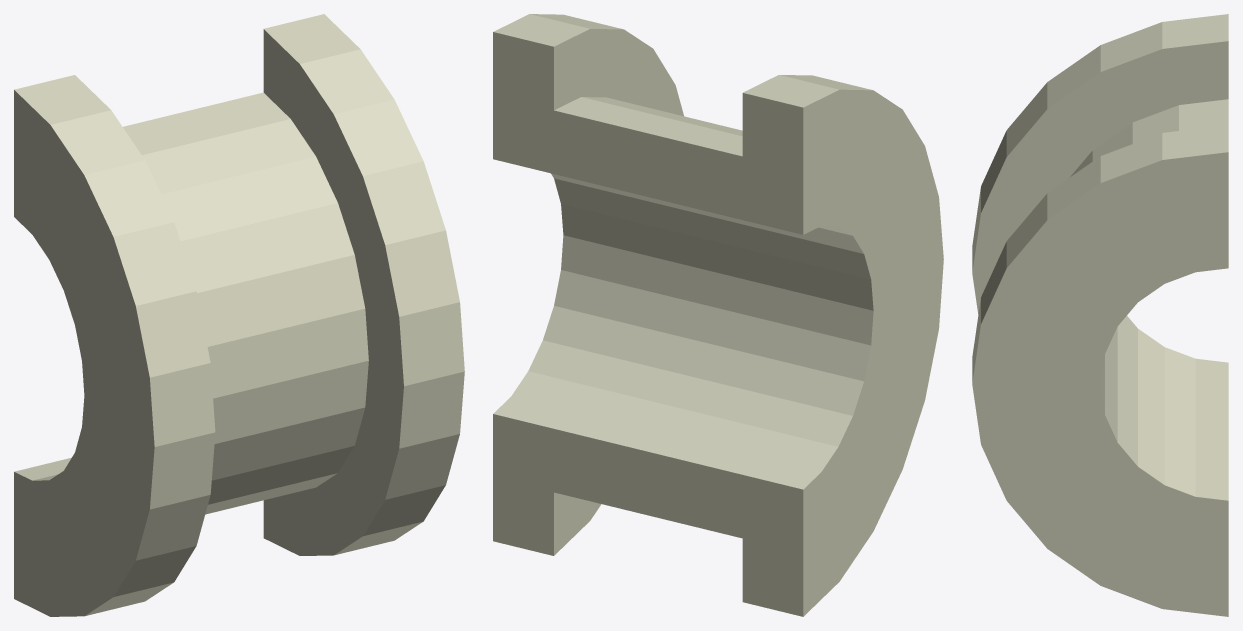
Rendered from section_102.obj.
3 renders of one model, left to right at view 1: azimuth 30°, elevation 25°; view 2: azimuth 150°, elevation 25°; view 3: azimuth 270°, elevation 25°, orthographic. The views are drawn at different scales.
Size of the model in its own units: 5.1 by 8 by 4.
